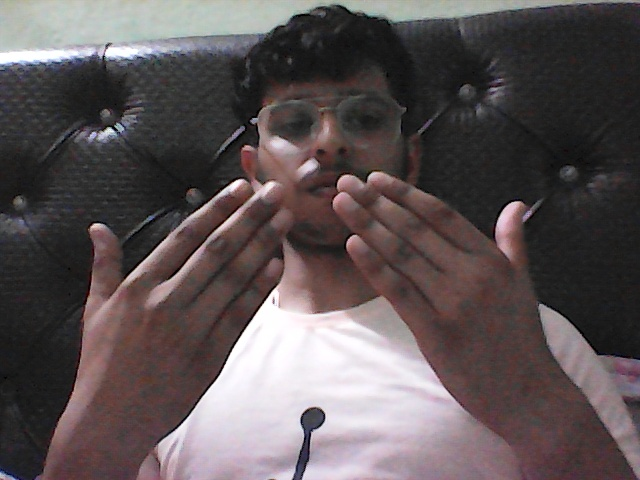thankyou: (25, 178, 593, 450)
